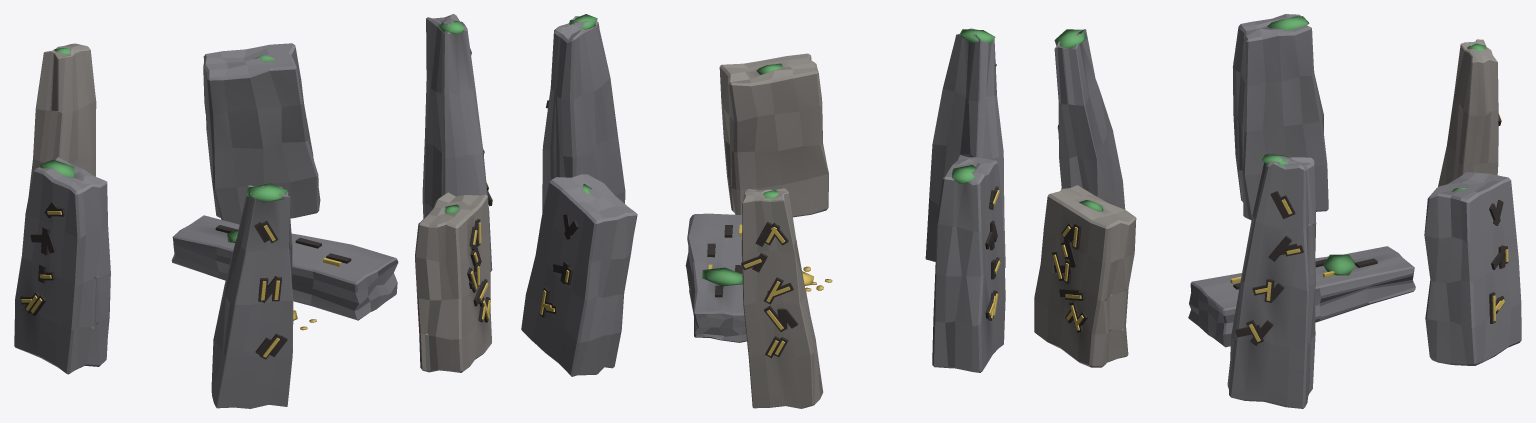
Rendered from standing_stones.glb.
The picture shows the model from 3 angles, left to right: view 1: azimuth 30°, elevation 25°; view 2: azimuth 150°, elevation 25°; view 3: azimuth 270°, elevation 25°; orthographic projection.
Visible parts, largest first — view 1: standing_stones; view 2: standing_stones; view 3: standing_stones.
Part boxes in pixels (<box>): standing_stones: <box>14,14,492,408</box>; standing_stones: <box>521,14,1005,408</box>; standing_stones: <box>1034,14,1521,408</box>.
Bounding box in the file's own units: 6.65 × 3.49 × 6.33.
